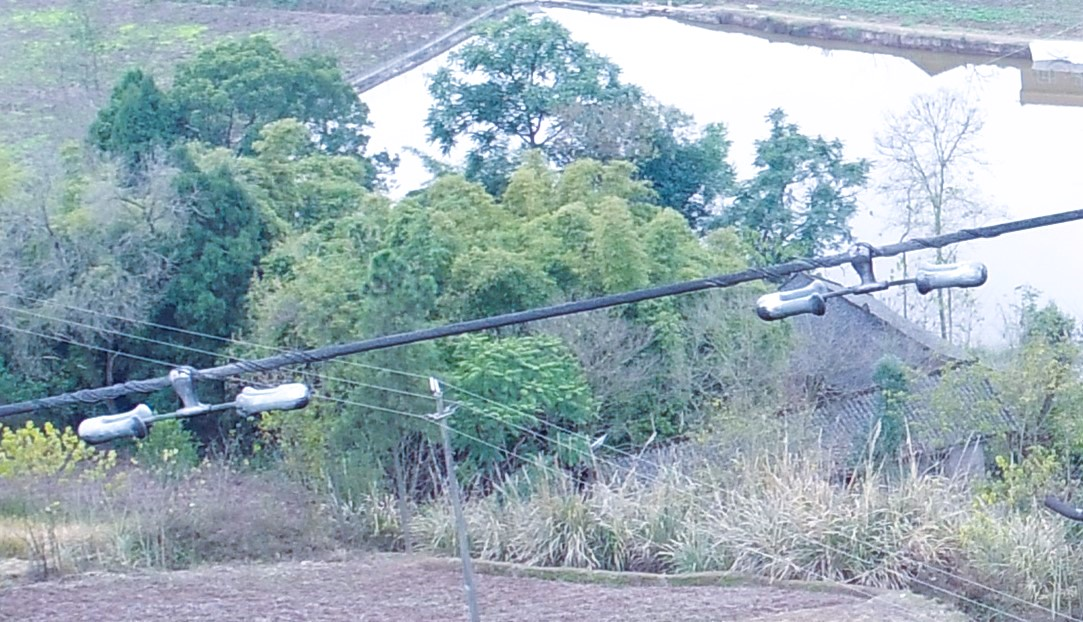Shockproof hammer: (68, 346, 317, 451), (746, 222, 994, 323)
